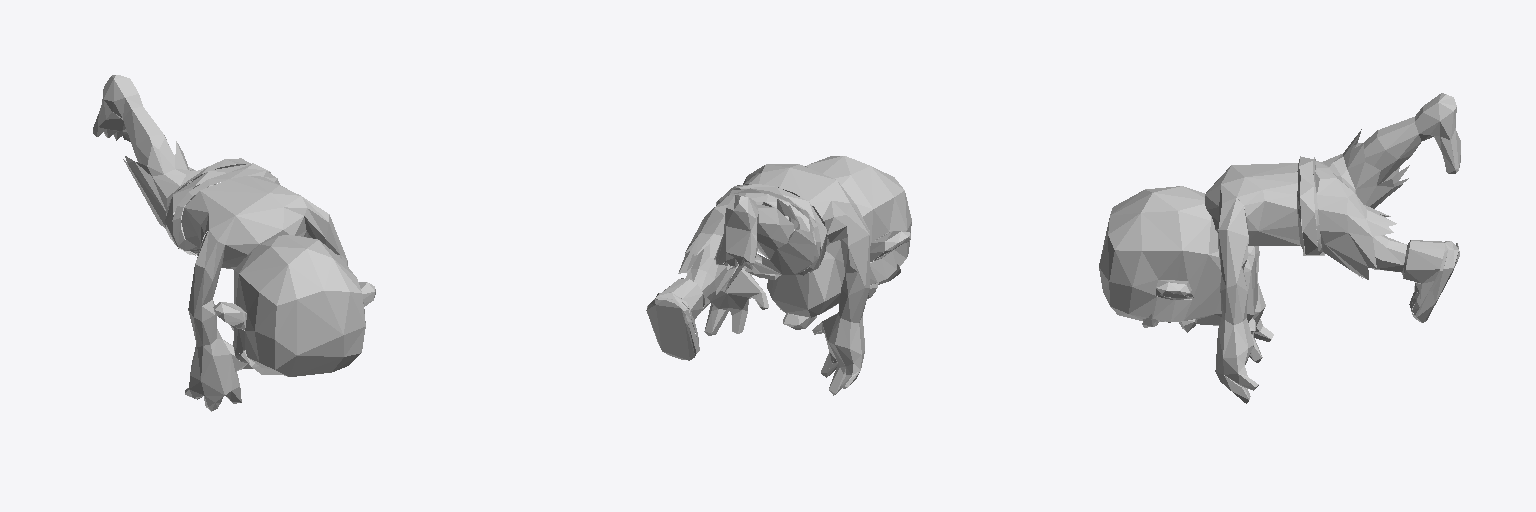
File: ZombieWalk0016.obj
3 views of the same model, side by side, from view 1: azimuth 30°, elevation 25°; view 2: azimuth 150°, elevation 25°; view 3: azimuth 270°, elevation 25° (orthographic).
Visible parts, largest first — view 1: Zombie; view 2: Zombie; view 3: Zombie.
Part boxes in pixels (left/top/right/bottom): Zombie: left=93, top=75, right=375, bottom=411; Zombie: left=646, top=156, right=911, bottom=395; Zombie: left=1099, top=93, right=1460, bottom=403.
Size of the model in its own units: 3.16 by 4.45 by 5.44.